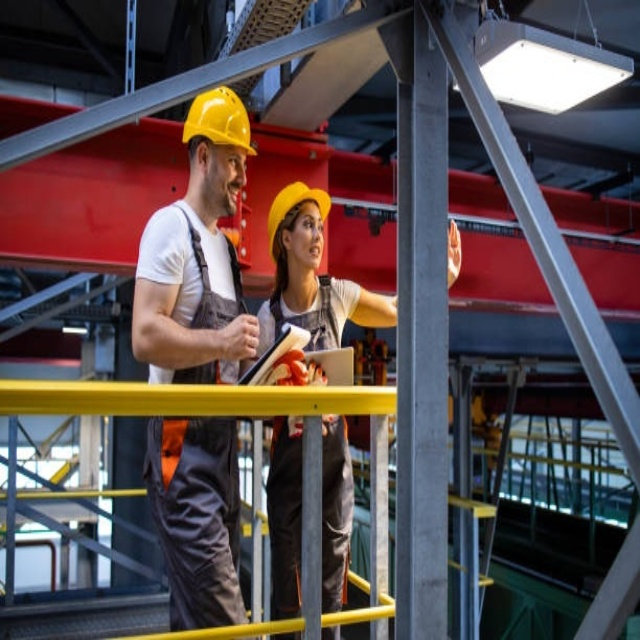Sin_gafas: (214, 147, 247, 176), (298, 210, 323, 235)
Sin_guantes: (221, 312, 262, 365), (450, 220, 463, 282)
Sin_mascara: (220, 184, 243, 207), (305, 240, 324, 265)
